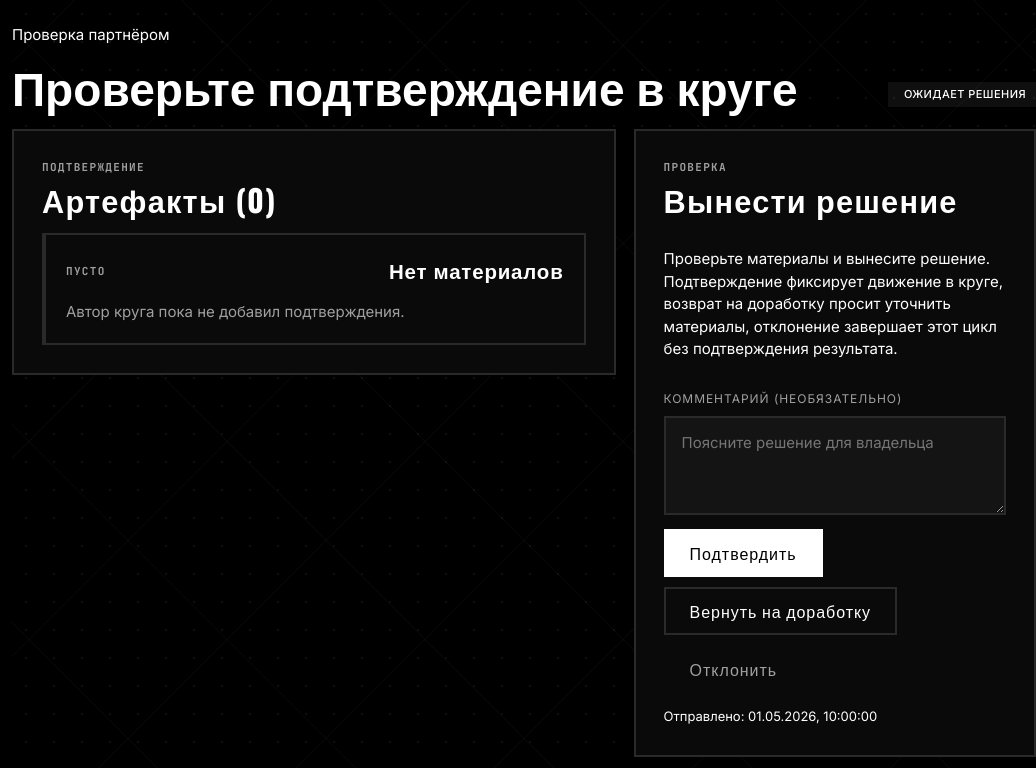
Scenario: ApprovalPanel › shows changes_requested state after request-changes click
The width and height of the screenshot is (1036, 768).
Click the button "Вернуть на доработку": (780,612) [664, 588, 897, 636]
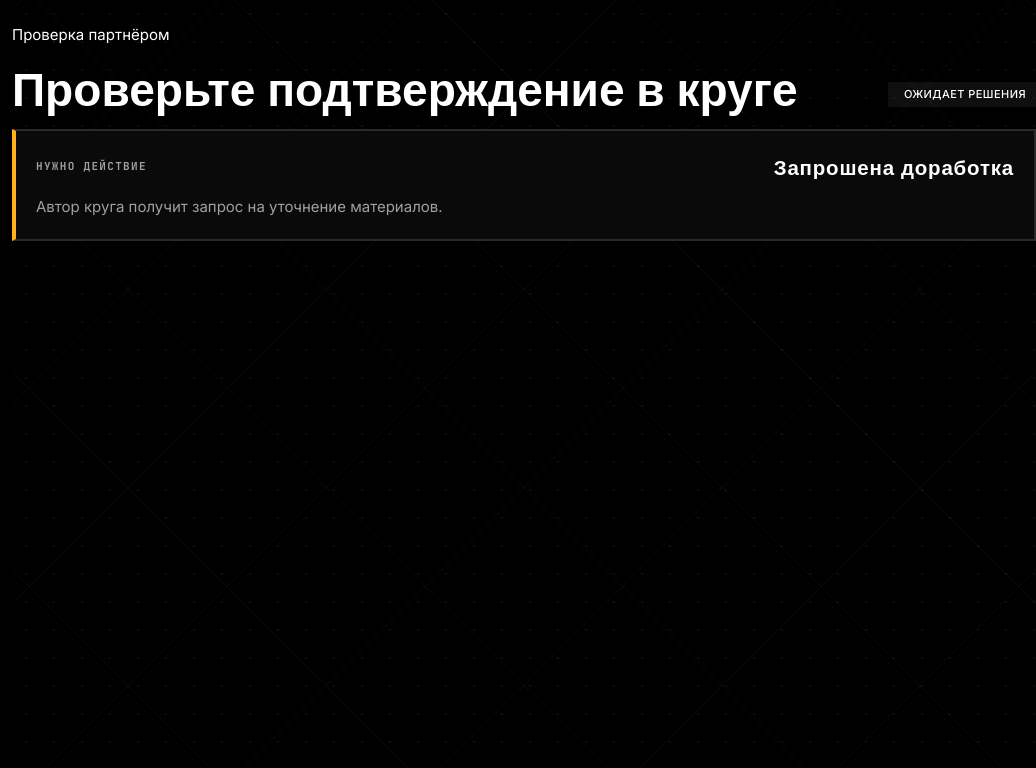
Result: the heading "Запрошена доработка" is shown at [774, 151, 1014, 181]
